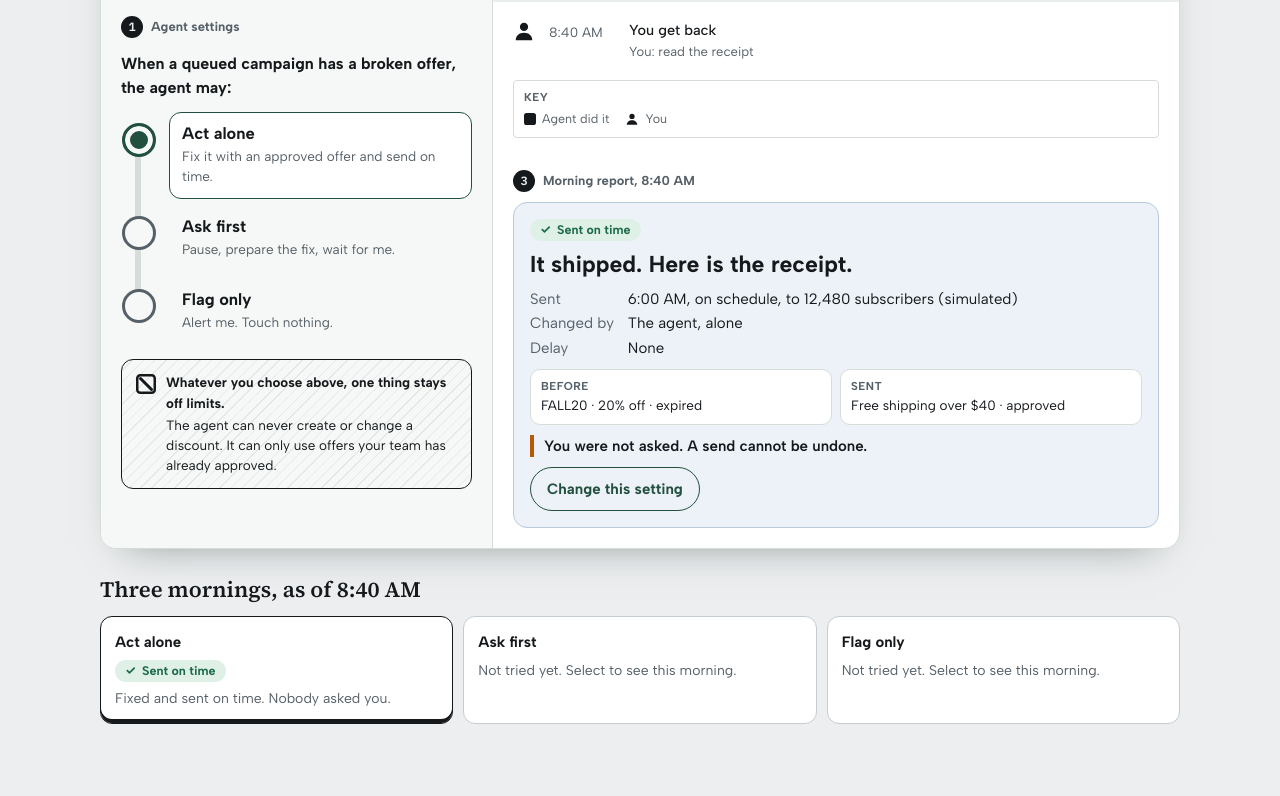
it: Three mornings › fills a card in only after that setting has been viewed, and selects on click
The image size is (1280, 796).
(page scrolled)
Expected: the button "Act alone" shows "Fixed and sent on time. Nobody asked you.", [100,616,453,724]
Expected: the button "Flag only Not tried yet. Select to see this morning." is shown, [827,616,1180,724]
Click the button "Ask first Not tried yet. Select to see this morning." at (640, 670), box [463,616,817,724]
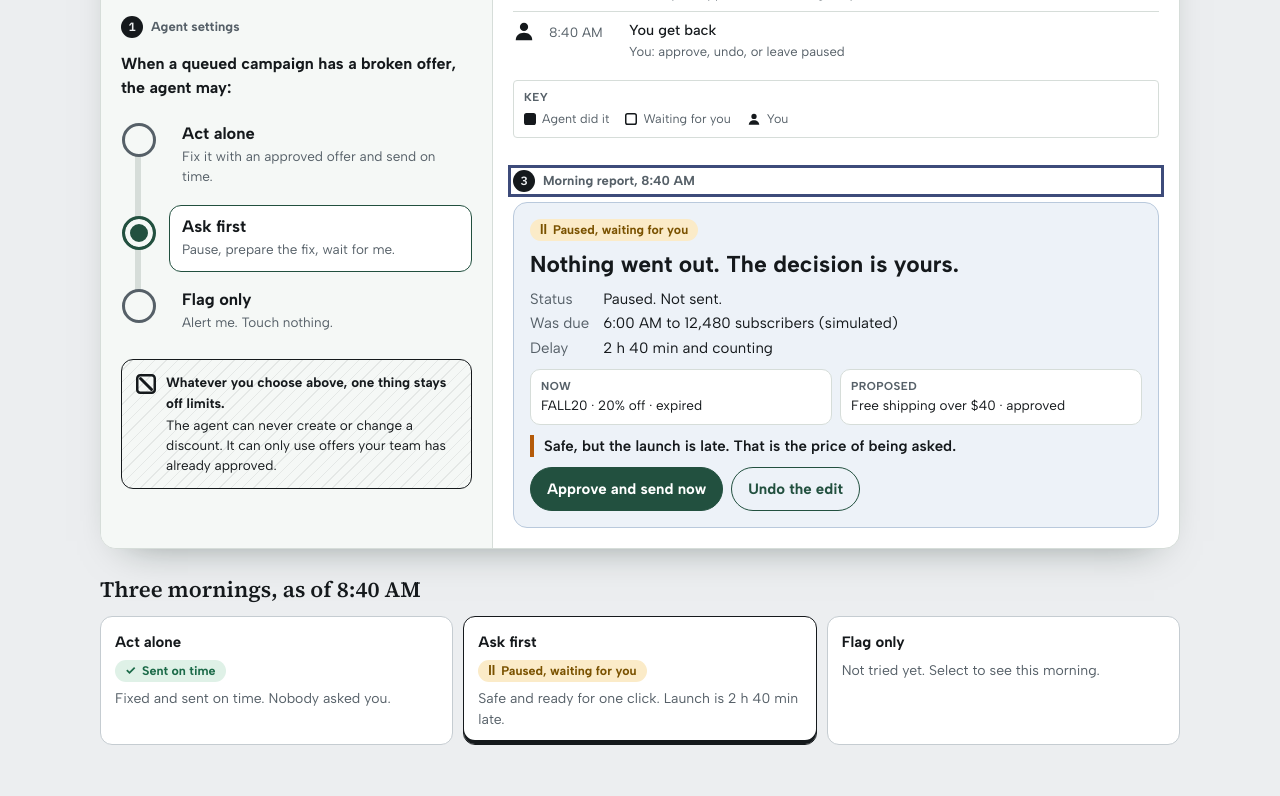
Expected: the radio button labelled "Ask first" is checked, [121,205,472,272]
Expected: the button "Ask first" shows "Safe and ready for one click. Launch is 2 h 40 min late.", [463,616,817,746]
Click the radio button labelled "Flag only" at (217, 299), box [182,289,333,330]
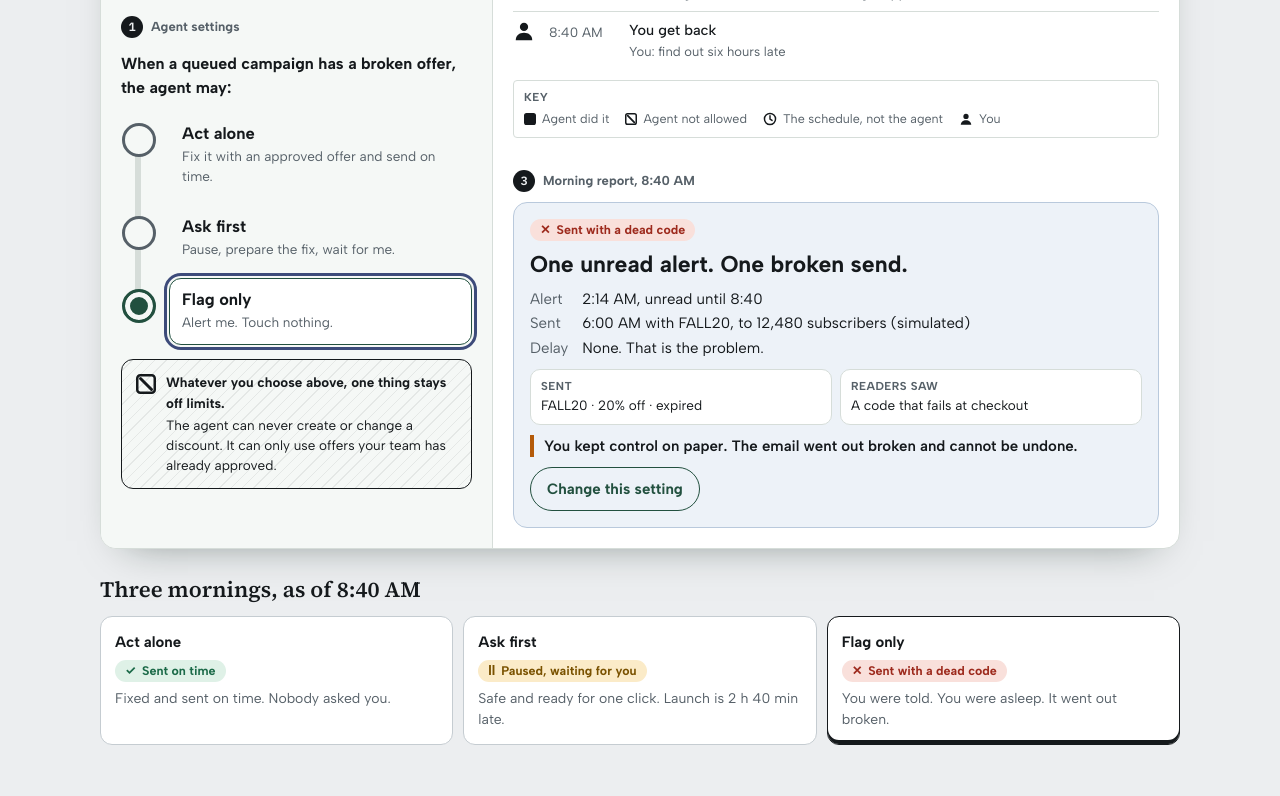
Expected: the button "Act alone" shows "Fixed and sent on time. Nobody asked you.", [100,616,453,746]
Expected: the button "Ask first" shows "Safe and ready for one click. Launch is 2 h 40 min late.", [463,616,817,746]
Expected: the button "Flag only" shows "You were told. You were asleep. It went out broken.", [827,616,1180,746]
